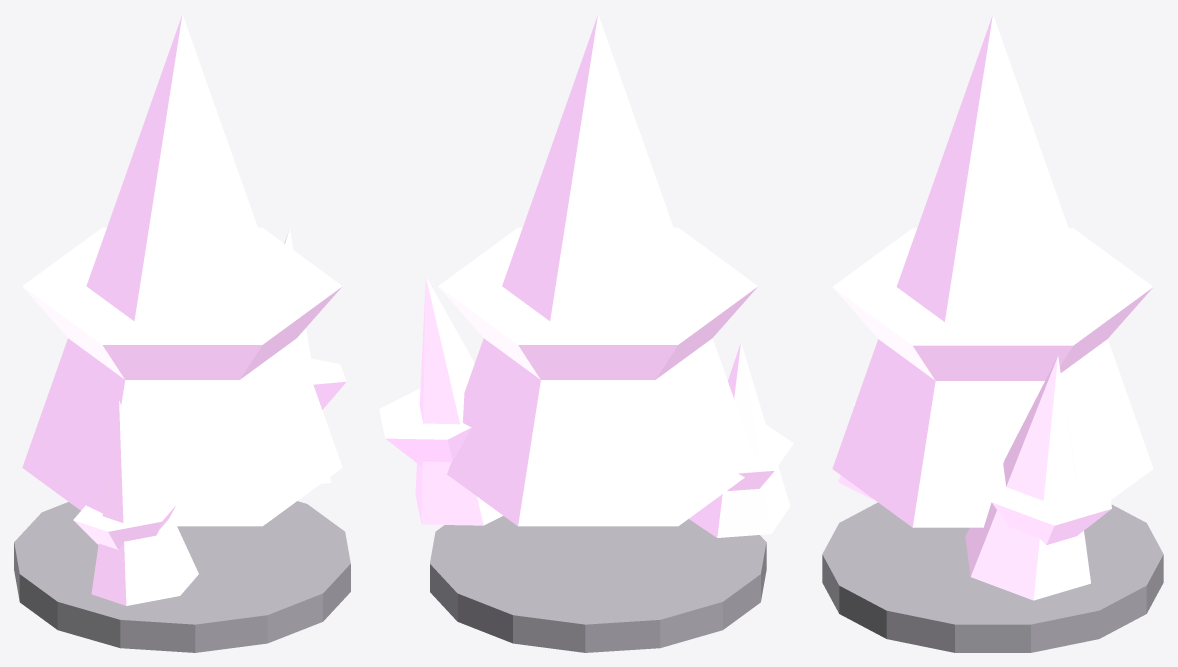
Rendered from crystal1.glb.
3 renders of one model, left to right at view 1: azimuth 30°, elevation 25°; view 2: azimuth 150°, elevation 25°; view 3: azimuth 270°, elevation 25°, orthographic.
Visible parts, largest first — view 1: crystal1.001; view 2: crystal1.001; view 3: crystal1.001.
Part boxes in pixels (x1,y1,x2,y2): crystal1.001: (14,14,350,652); crystal1.001: (379,14,793,652); crystal1.001: (822,14,1163,652).
Bounding box in the file's own units: 1.23 × 2 × 1.09.
